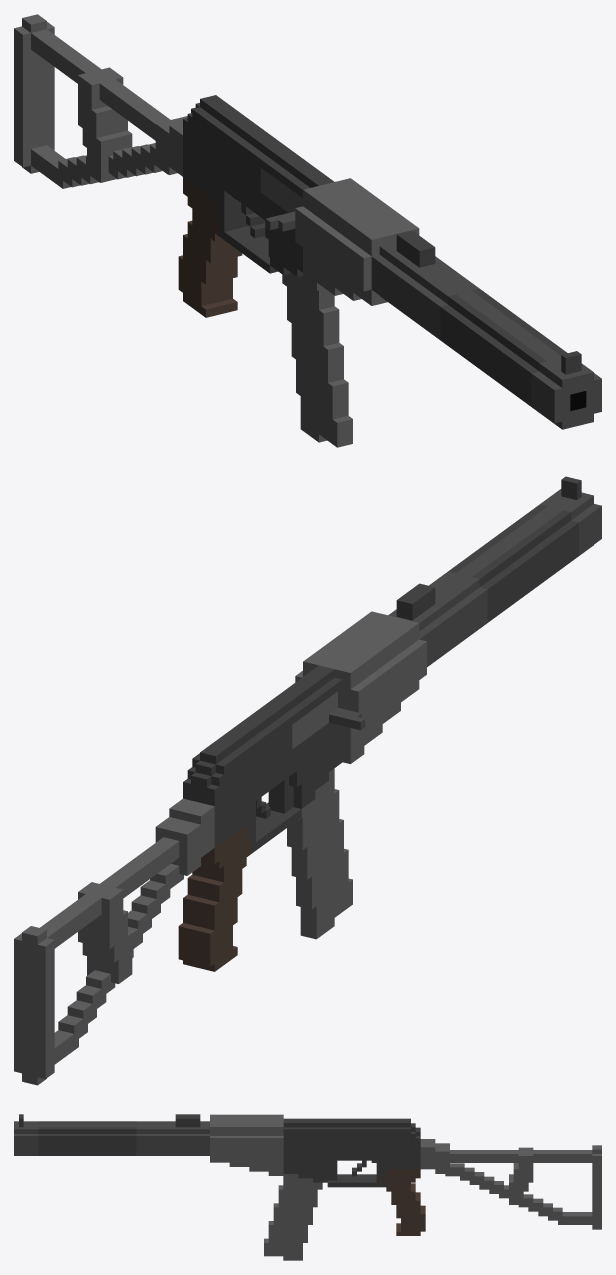
Rendered from Rifle_1.obj.
3 renders of one model, top to bottom at view 1: azimuth 30°, elevation 25°; view 2: azimuth 150°, elevation 25°; view 3: azimuth 270°, elevation 25°, orthographic. The views are drawn at different scales.
Bounding box in the file's own units: 10 × 32 × 120.
